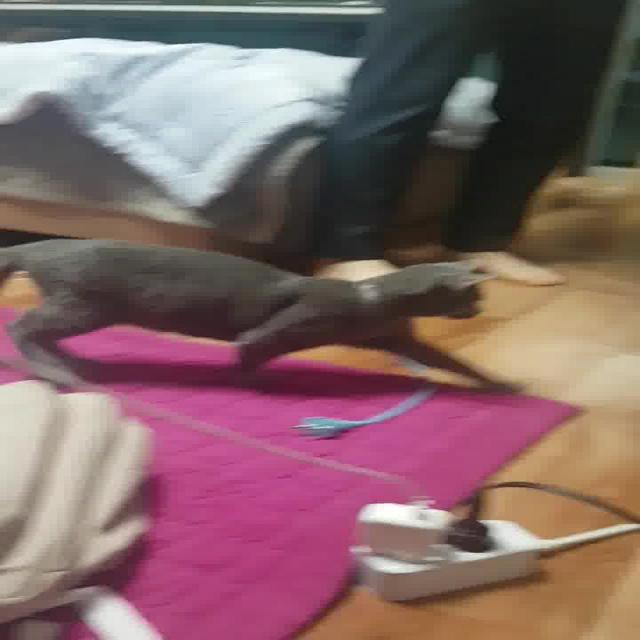cat: (0, 224, 570, 409)
